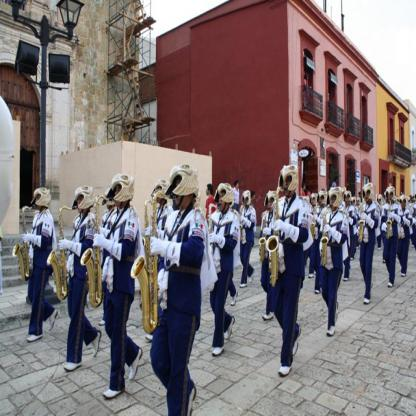face: (175, 180, 187, 206), (283, 177, 293, 196), (115, 185, 123, 207), (219, 193, 227, 212), (77, 197, 85, 214), (330, 196, 337, 211), (268, 198, 275, 212), (157, 189, 163, 204), (36, 196, 42, 210), (107, 198, 113, 211), (365, 191, 371, 203), (388, 193, 394, 203), (345, 196, 351, 205), (319, 195, 324, 205), (401, 201, 407, 209), (244, 197, 248, 206), (312, 197, 316, 205), (207, 187, 210, 196), (357, 200, 360, 206), (352, 201, 355, 206), (378, 199, 381, 204), (411, 197, 414, 202), (254, 193, 256, 199), (304, 185, 306, 190), (237, 183, 239, 188), (360, 194, 362, 197)
